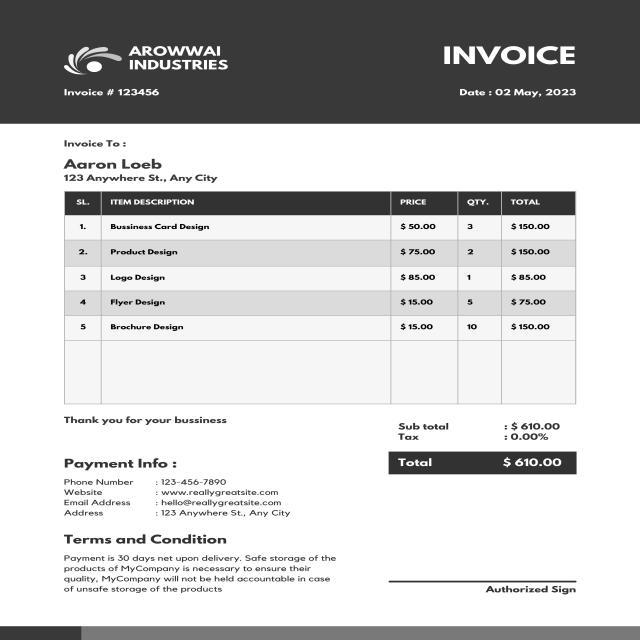customer_address: (59, 172, 220, 186)
customer_name: (61, 157, 164, 171)
invoice_date: (493, 82, 580, 102)
invoice_number: (114, 82, 163, 102)
invoice_subtotal: (510, 420, 563, 431)
invoice_total: (493, 454, 572, 472)
item_description: (106, 222, 213, 337)
item_quantity: (457, 218, 485, 339)
item_total_price: (507, 217, 560, 334)
item_unit_price: (397, 219, 442, 337)
supplier_address: (158, 507, 295, 521)
supplier_name: (125, 42, 237, 72)
tax_rate: (509, 432, 551, 444)
